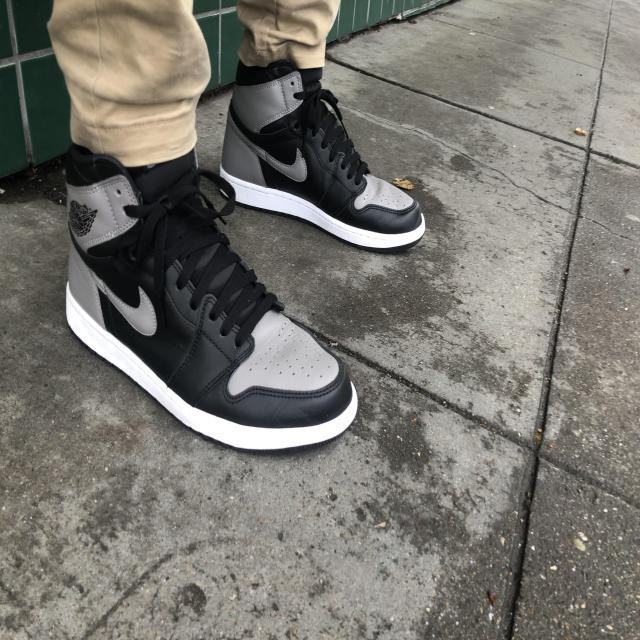shoe: (53, 132, 363, 458), (213, 50, 433, 253)
